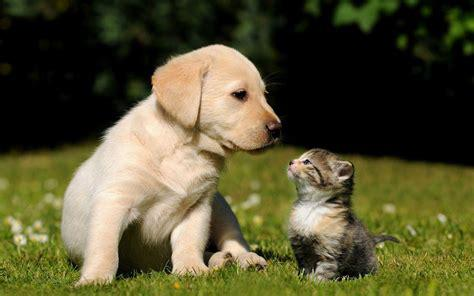cat: (287, 149, 399, 277)
dog: (62, 45, 279, 284)
